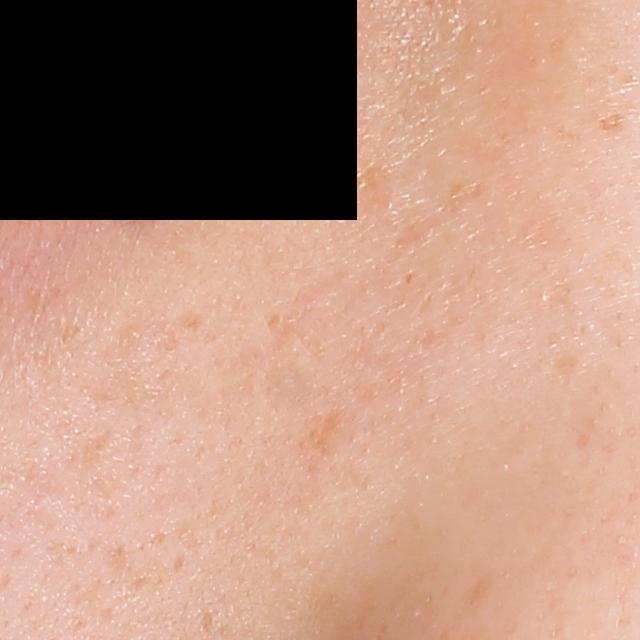melasma: (385, 179, 490, 268), (107, 184, 168, 240), (300, 402, 353, 457), (349, 161, 396, 214), (180, 308, 207, 333), (597, 111, 626, 133)
